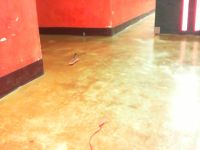switch: (181, 1, 189, 30), (193, 1, 200, 32)
